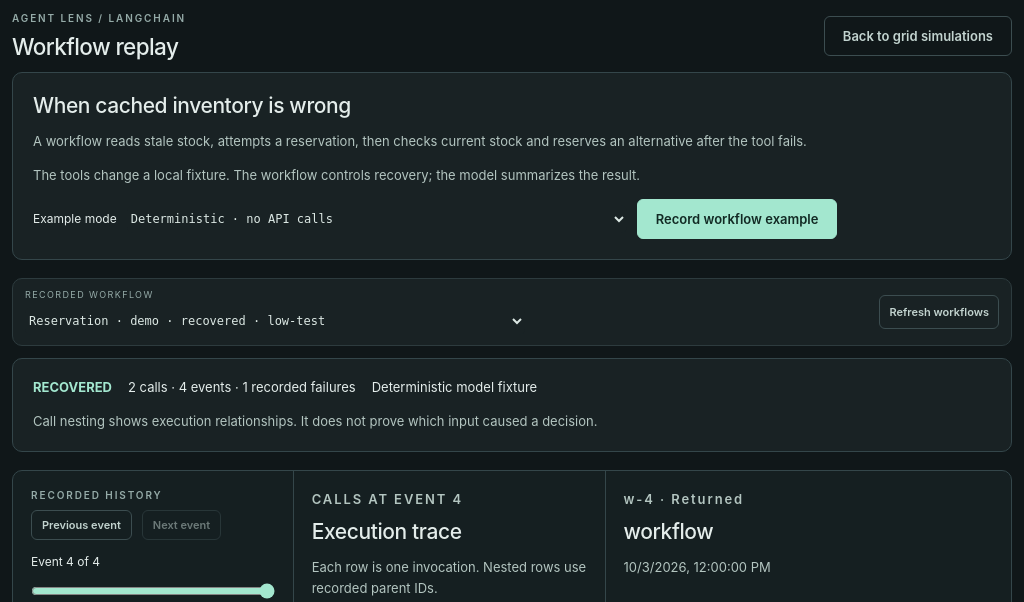
Test case: starts a live example only on an explicit create action
Check: the text "RECOVERED" is shown, box [33,379,112,395]
Select "Live model summary · one API call" in the dropdown labelled "Example mode" at (377, 219), box [127,205,627,233]
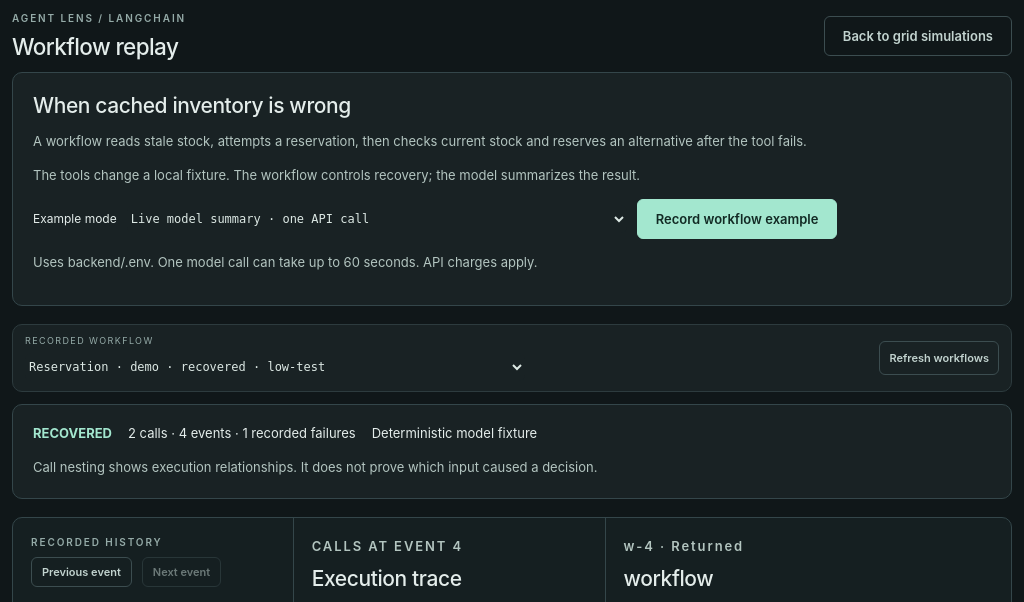
Click the button "Record workflow example" at (737, 219), box [637,199,837,239]
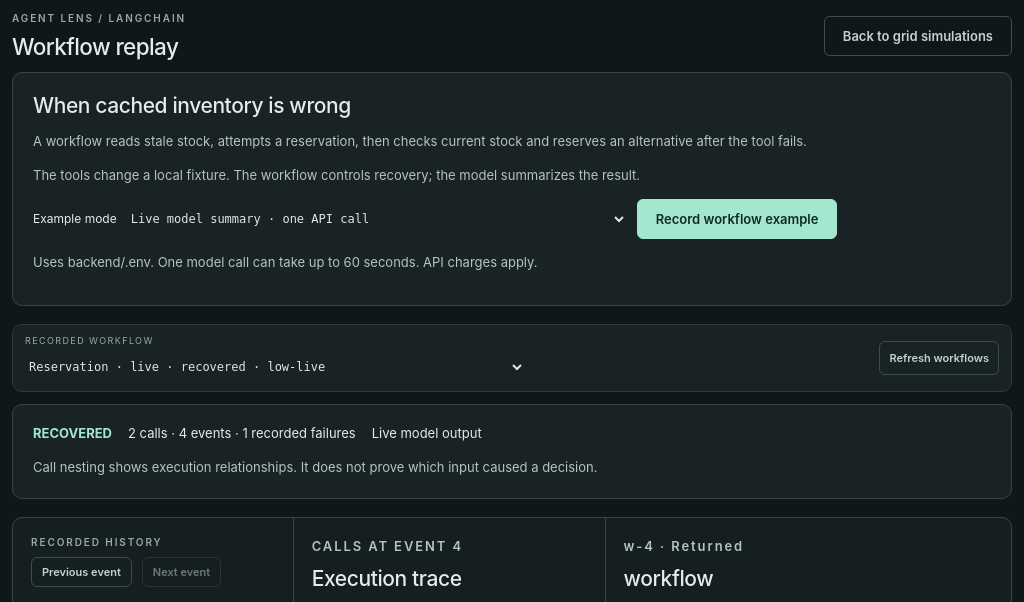
Check: the text "Live model output" is shown, box [372,425,482,441]
